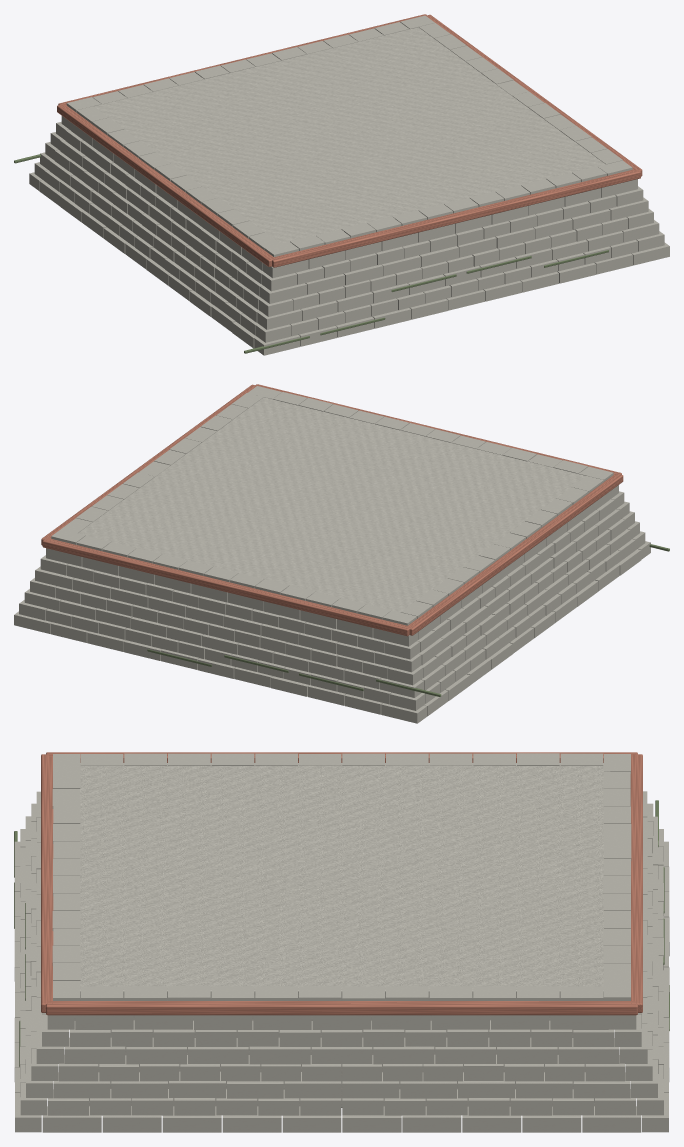
Rendered from jungle-temple-and-stone-city-pyramid-base-tier-1ba8c866__36100.glb.
The picture shows the model from 3 angles, top to bottom: view 1: azimuth 30°, elevation 25°; view 2: azimuth 150°, elevation 25°; view 3: azimuth 270°, elevation 25°; orthographic projection. The views are drawn at different scales.
Visible parts, largest first — view 1: pyramid-base-tier; view 2: pyramid-base-tier; view 3: pyramid-base-tier.
Part boxes in pixels (left/top/right/bottom): pyramid-base-tier: left=14, top=14, right=669, bottom=355; pyramid-base-tier: left=14, top=384, right=669, bottom=723; pyramid-base-tier: left=14, top=752, right=669, bottom=1132.
Size of the model in its own units: 12.57 by 2.4 by 12.03.
3 materials, 3 textured.
